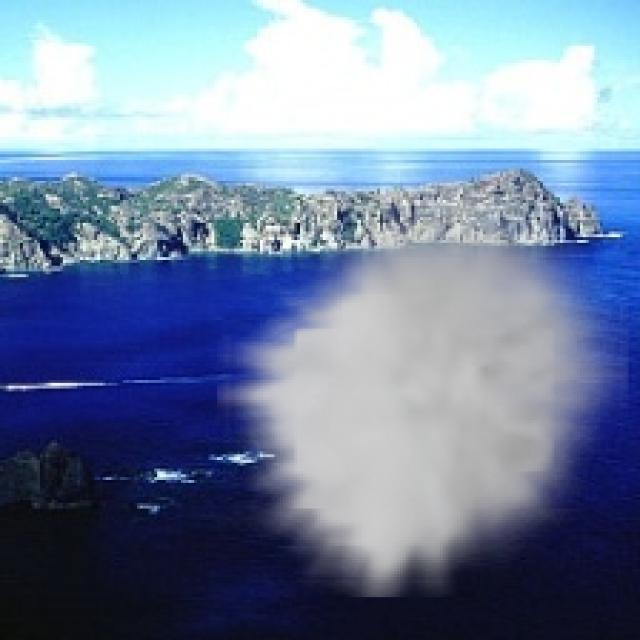Smoke: (217, 202, 629, 598)
